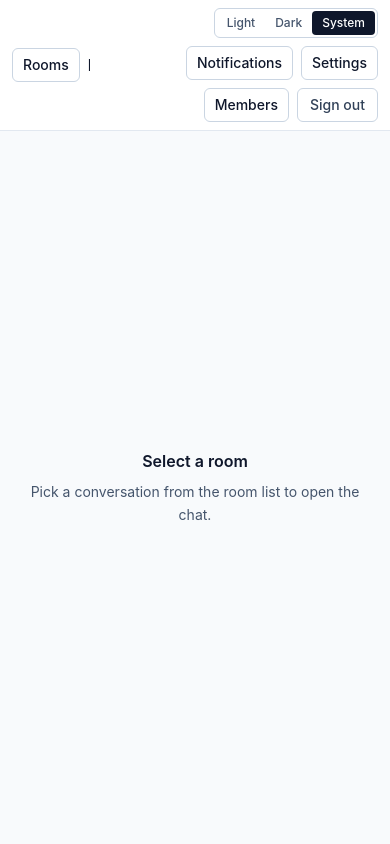
Test case: ChatLayout › opens the room drawer on smaller layouts
The width and height of the screenshot is (390, 844).
Click the button "Rooms" at (46, 65), box [12, 48, 80, 82]
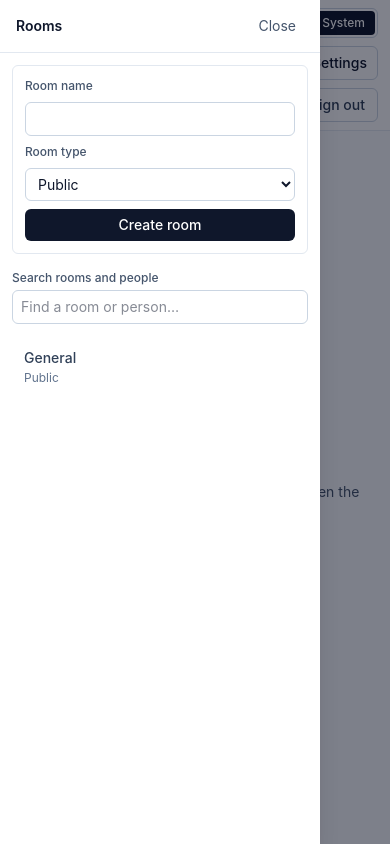
Result: the dialog "Rooms" is shown
